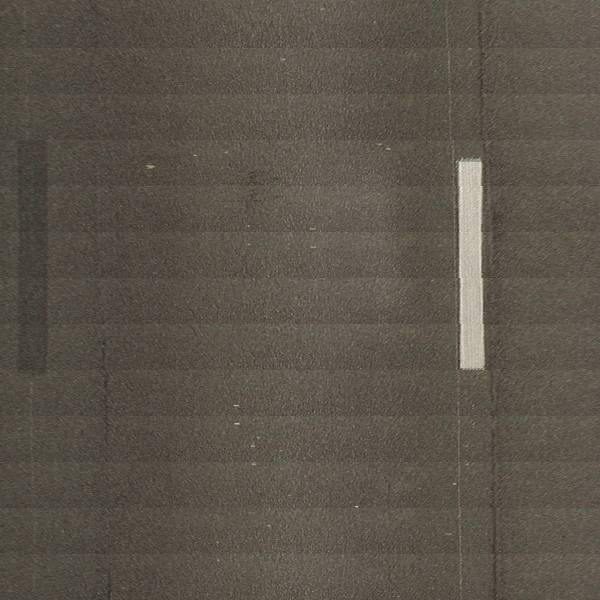road_damage: (227, 165, 281, 220), (96, 337, 116, 450)
